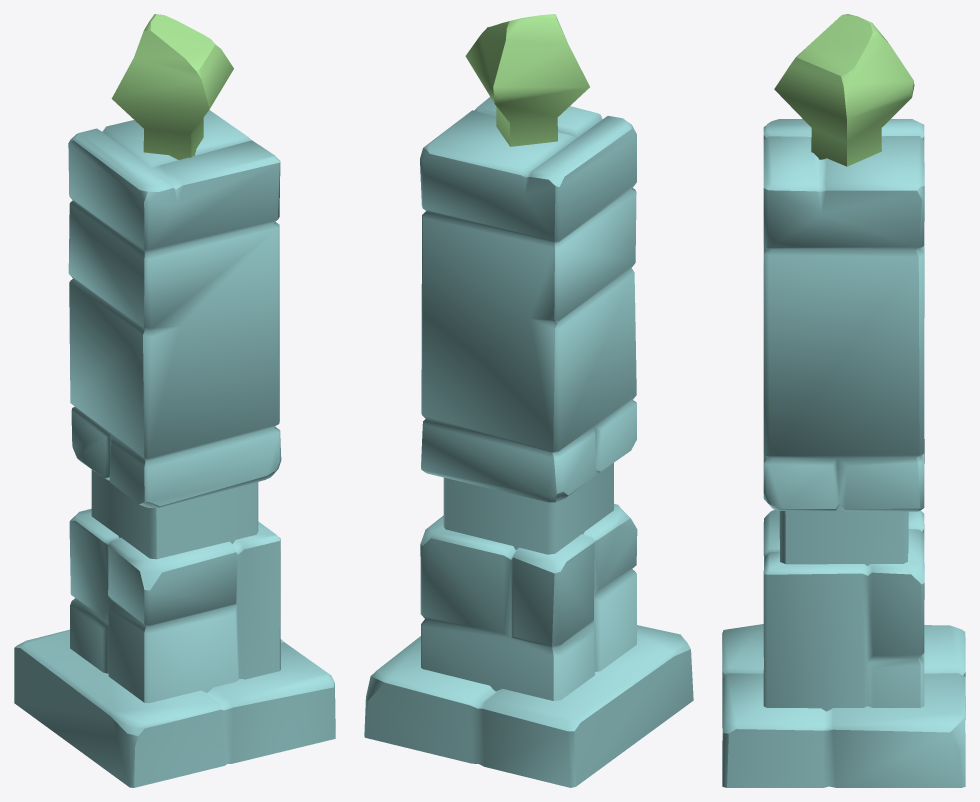
The model's file is SM_Fence_3.fbx.
3 renders of one model, left to right at view 1: azimuth 30°, elevation 25°; view 2: azimuth 150°, elevation 25°; view 3: azimuth 270°, elevation 25°, orthographic. The views are drawn at different scales.
Parts seen in each view (by area): view 1: SM_Fence_3; view 2: SM_Fence_3; view 3: SM_Fence_3.
Boxes of the visible parts, x1,y1,x2,y2 form: SM_Fence_3: [14, 14, 335, 787]; SM_Fence_3: [364, 14, 693, 787]; SM_Fence_3: [722, 14, 965, 787].
Size of the model in its own units: 41.75 by 134 by 41.74.
